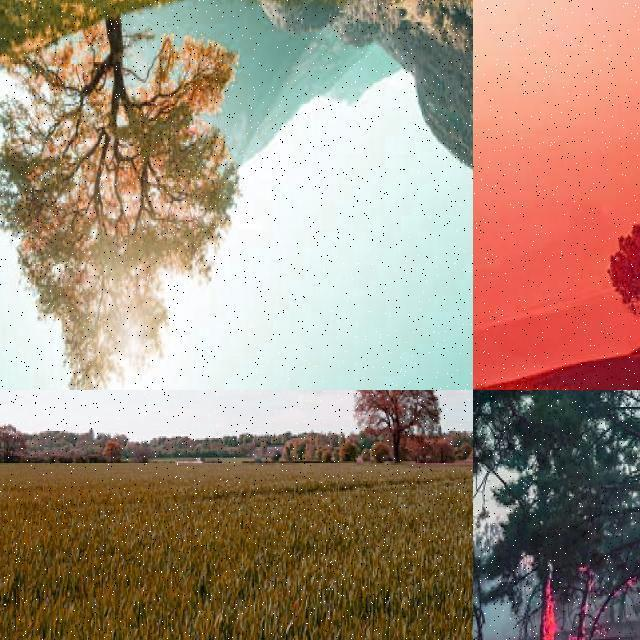tree: (0, 6, 248, 390), (472, 390, 640, 640), (349, 390, 446, 468), (604, 204, 640, 346)
